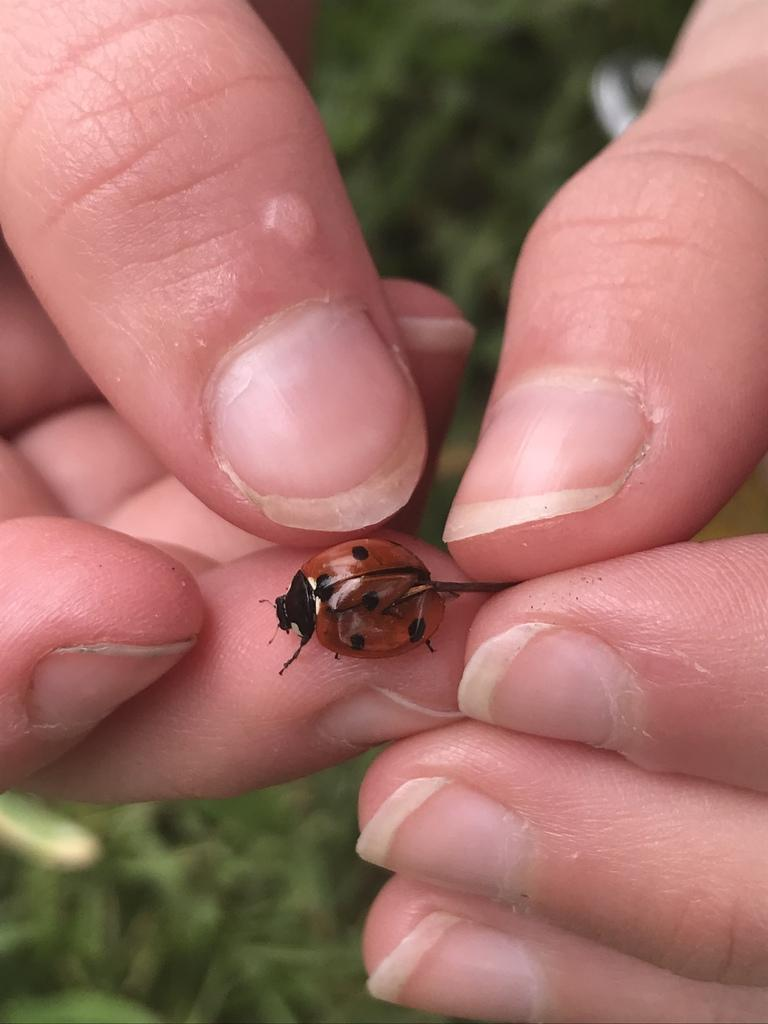ladybug: (260, 536, 462, 677)
